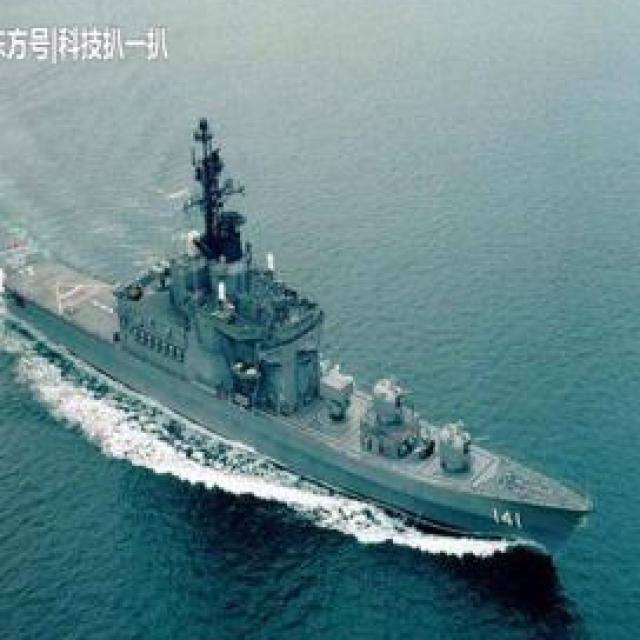navalvessels: (0, 125, 591, 546)
